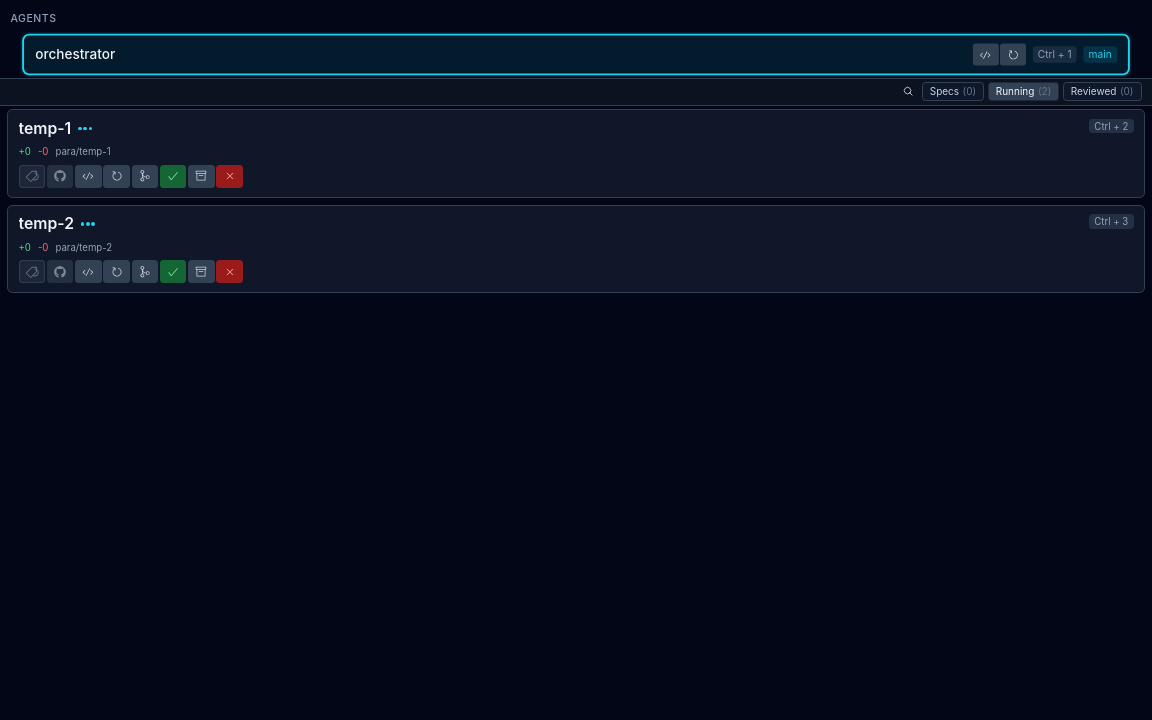
Test: Sidebar filter functionality and persistence › Reviewed session preservation with Running filter › does not preserve selection when session is removed (not just marked reviewed)
Check: the button titled "Show running agents" shows "2", box x1=988 y1=82 x2=1059 y2=101
Click the button "temp-1 Ctrl + 2 +0 -0 para/temp-1". click: (45, 128)
box: x1=7 y1=109 x2=1145 y2=198
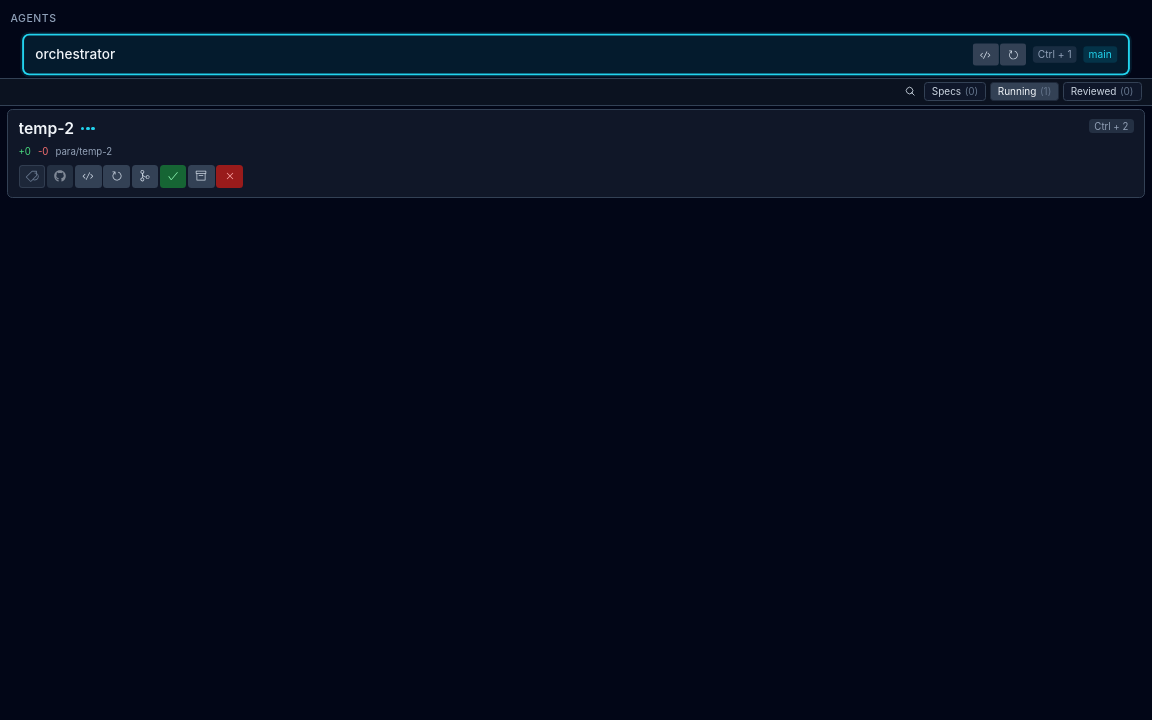
Check: the button titled "Show running agents" shows "1", box x1=990 y1=82 x2=1059 y2=101
